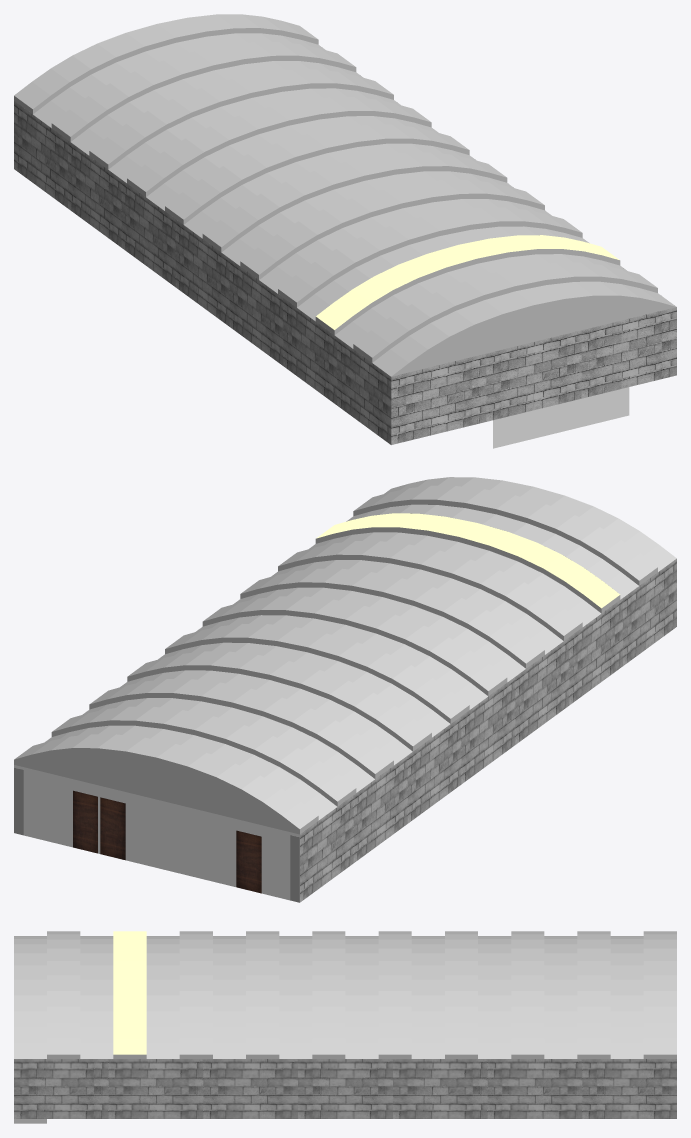
The model's file is bodega.glb.
The picture shows the model from 3 angles, top to bottom: view 1: azimuth 30°, elevation 25°; view 2: azimuth 150°, elevation 25°; view 3: azimuth 270°, elevation 25°; orthographic projection. The views are drawn at different scales.
Parts seen in each view (by area): view 1: Plane.001, Plane, Plane.007; view 2: Plane.001, Plane, Plane.011, Cube; view 3: Plane.001, Plane.
Boxes of the visible parts, box(x1,y1,x2,y2) form: Plane.001: box(14, 14, 676, 376); Plane: box(14, 101, 676, 444); Plane.007: box(493, 387, 629, 448); Plane.001: box(14, 477, 676, 834); Plane: box(14, 558, 676, 902); Plane.011: box(73, 790, 261, 893); Cube: box(14, 767, 299, 902); Plane.001: box(14, 931, 676, 1058); Plane: box(14, 1059, 676, 1118).
Size of the model in its own units: 21 by 9.74 by 48.01.
9 materials, 3 textured.
